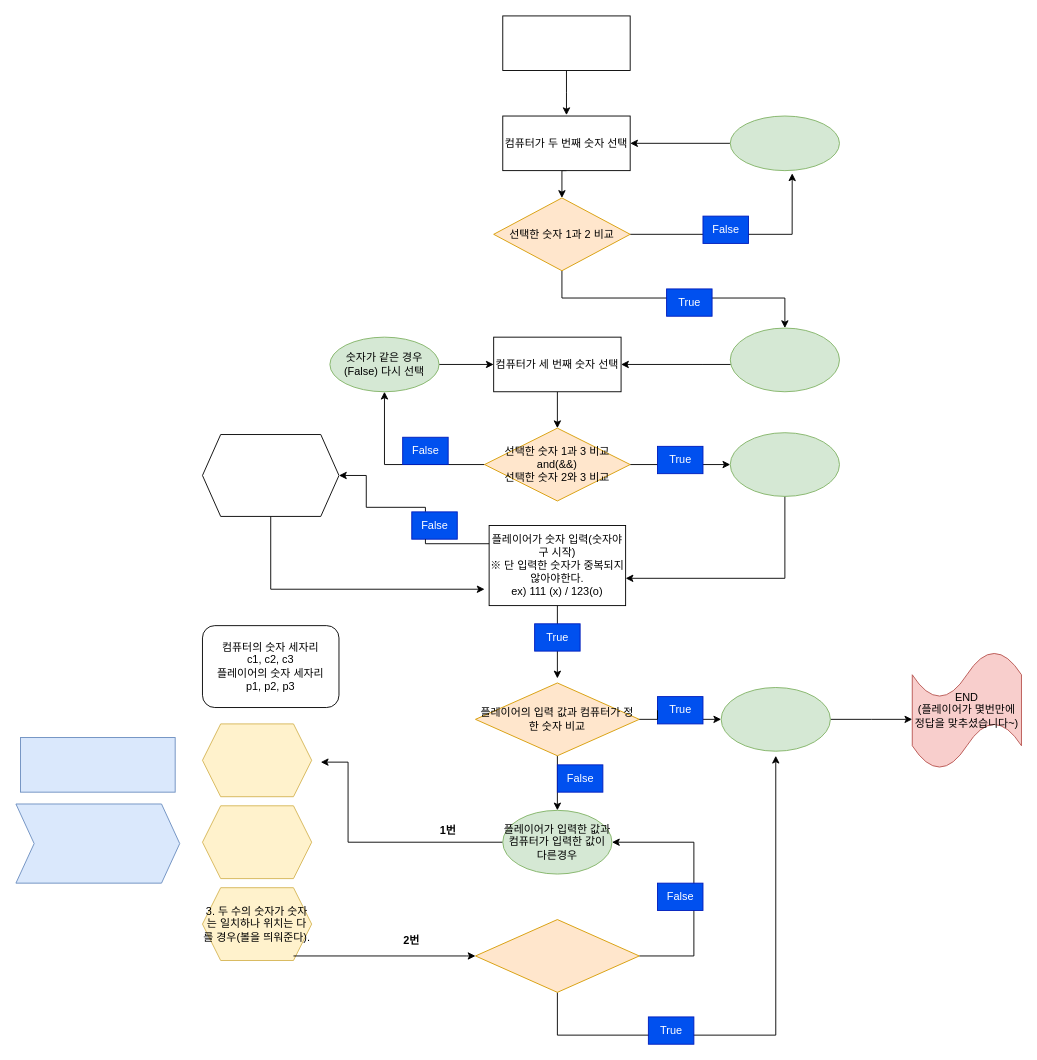
This 1037x1060 diagram has some shape labels left out. Here are the shapes that lost their labels. From the top down, the centre of each, then its label:
At [566,43]: "컴퓨터가 첫 번째 숫자 선택(0~9사이의 랜덤한 숫자)".
At [784,143]: "숫자가 같은 경우 다시 선택".
At [784,359]: "숫자가 다른 경우 다음 숫자 선택".
At [270,475]: "선택한 숫자가 중복된 경우 '숫자가 중복되었으니 다시 입력하세요' 창을 띄워준다.".
At [784,464]: "숫자가 다른 경우 사용자 입력(본격적인 게임 시작)".
At [775,719]: "플레이어가 입력한 값과 컴퓨터가 입력한 값이 일치하는 경우".
At [97,764]: "1~3번까지의 과정을 컴퓨터의 숫자와 플레이어의 숫자 하나씩 매칭하여 반복".
At [257,760]: "1. 두 수의 숫자와 위치가 일치하는 경우 (스트라이크를 띄워준다.)".
At [97,843]: "ex) c1 = p1 -> 스트라이크 c1 != p1 -> 아웃 c1 = p2 or c1 = p3 -> 볼".
At [257,842]: "2. 두 수의 숫자가 위치와 숫자 모두 다를 경우(아웃을 띄워준다.)".
At [557,955]: "플레이어는 숫자를 다시 선택하고 컴퓨터와 비교한다.(카운트 누적)".
